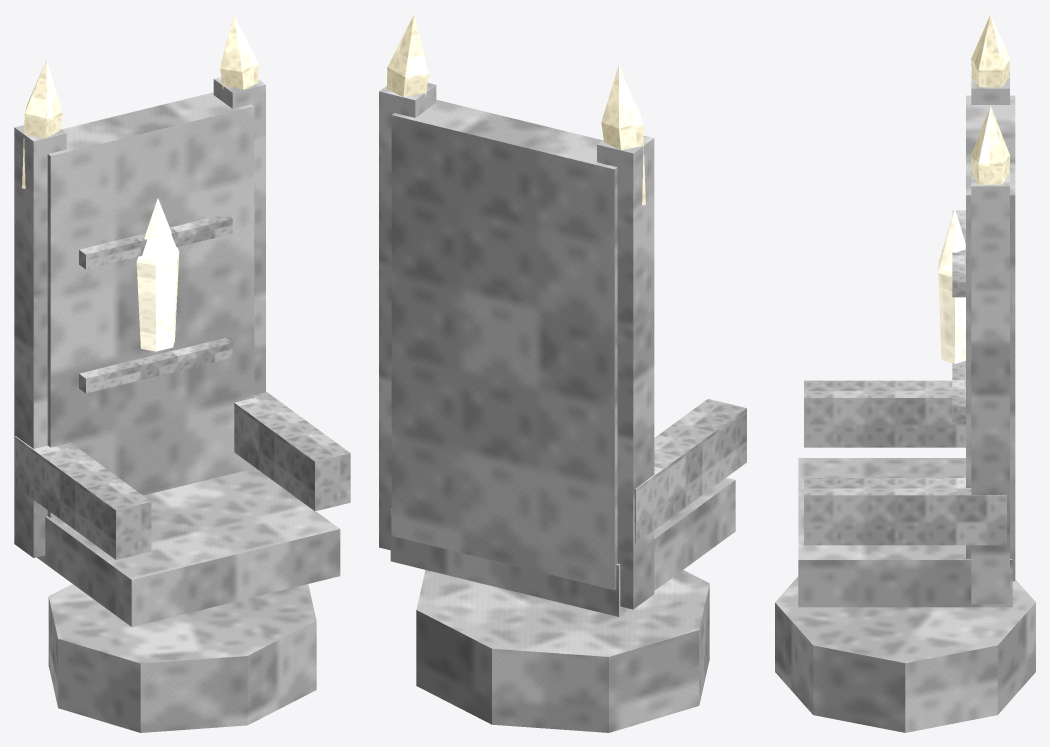
File: furniture-crystal-throne.glb
The picture shows the model from 3 angles, left to right: view 1: azimuth 30°, elevation 25°; view 2: azimuth 150°, elevation 25°; view 3: azimuth 270°, elevation 25°; orthographic projection. The views are drawn at different scales.
Parts seen in each view (by area): view 1: back, base, seat, pillar-0.42, arm-0.42, arm--0.42, heart, pillar--0.42, back-band-a, back-band-b, crown-crystal-0.42, crown-crystal--0.42; view 2: back, base, pillar-0.42, seat, arm-0.42, pillar--0.42, crown-crystal-0.42, crown-crystal--0.42; view 3: base, seat, pillar--0.42, arm--0.42, arm-0.42, back, heart, crown-crystal--0.42, crown-crystal-0.42, back-band-b, back-band-a, pillar-0.42.
Boxes of the visible parts, x1=… form: back: x1=47, y1=92, x2=254, y2=518; base: x1=48, y1=584, x2=316, y2=732; seat: x1=37, y1=467, x2=340, y2=626; pillar-0.42: x1=14, y1=125, x2=66, y2=557; arm-0.42: x1=14, y1=436, x2=151, y2=559; arm--0.42: x1=234, y1=391, x2=350, y2=511; heart: x1=136, y1=198, x2=179, y2=351; pillar--0.42: x1=213, y1=77, x2=265, y2=394; back-band-a: x1=79, y1=338, x2=232, y2=393; back-band-b: x1=79, y1=214, x2=232, y2=269; crown-crystal-0.42: x1=22, y1=60, x2=62, y2=188; crown-crystal--0.42: x1=220, y1=14, x2=258, y2=89; back: x1=391, y1=99, x2=617, y2=590; base: x1=416, y1=570, x2=709, y2=732; pillar-0.42: x1=597, y1=135, x2=654, y2=609; seat: x1=390, y1=477, x2=735, y2=616; arm-0.42: x1=634, y1=399, x2=746, y2=543; pillar--0.42: x1=379, y1=83, x2=436, y2=550; crown-crystal-0.42: x1=601, y1=64, x2=645, y2=205; crown-crystal--0.42: x1=386, y1=14, x2=428, y2=96; base: x1=775, y1=576, x2=1035, y2=732; seat: x1=798, y1=458, x2=1012, y2=607; pillar--0.42: x1=971, y1=170, x2=1009, y2=604; arm--0.42: x1=804, y1=478, x2=1006, y2=545; arm-0.42: x1=804, y1=380, x2=965, y2=447; back: x1=966, y1=95, x2=1015, y2=581; heart: x1=938, y1=209, x2=965, y2=363; crown-crystal--0.42: x1=971, y1=106, x2=1010, y2=184; crown-crystal-0.42: x1=971, y1=14, x2=1010, y2=87; back-band-b: x1=952, y1=210, x2=965, y2=297; back-band-a: x1=952, y1=360, x2=965, y2=421; pillar-0.42: x1=971, y1=72, x2=1009, y2=104.
Bounding box in the file's own units: 1.05 × 2.46 × 0.95.
7 materials, 7 textured.
